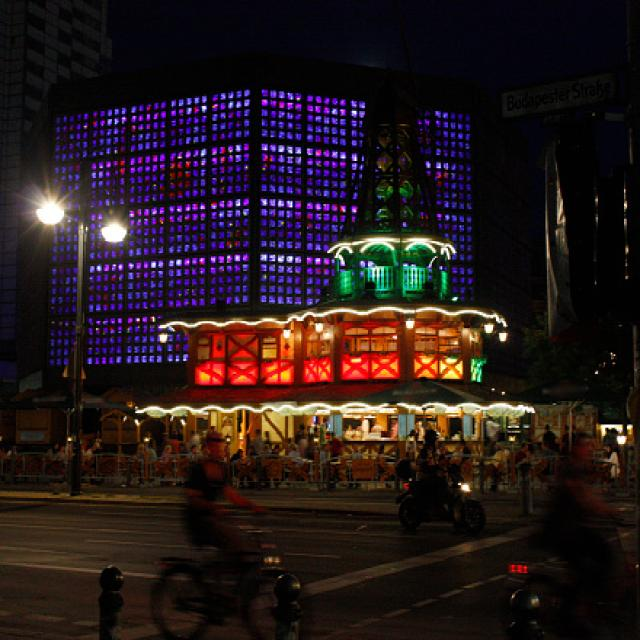Motorbike: (483, 522, 639, 630), (147, 539, 311, 640), (386, 479, 507, 533)
People: (177, 406, 248, 581), (557, 403, 604, 563), (420, 412, 456, 514)
